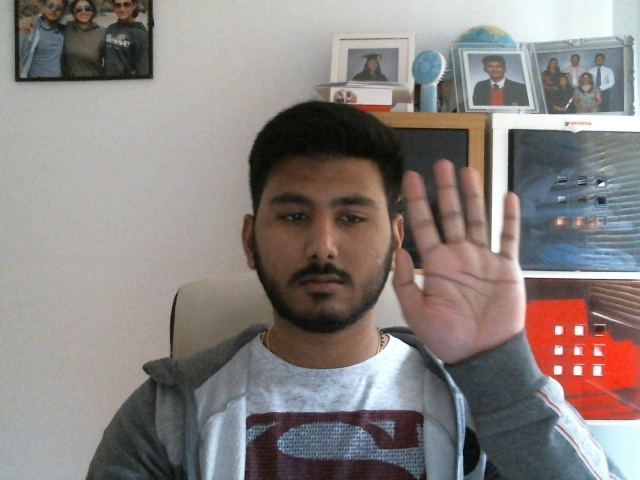hello: (390, 158, 519, 356)
